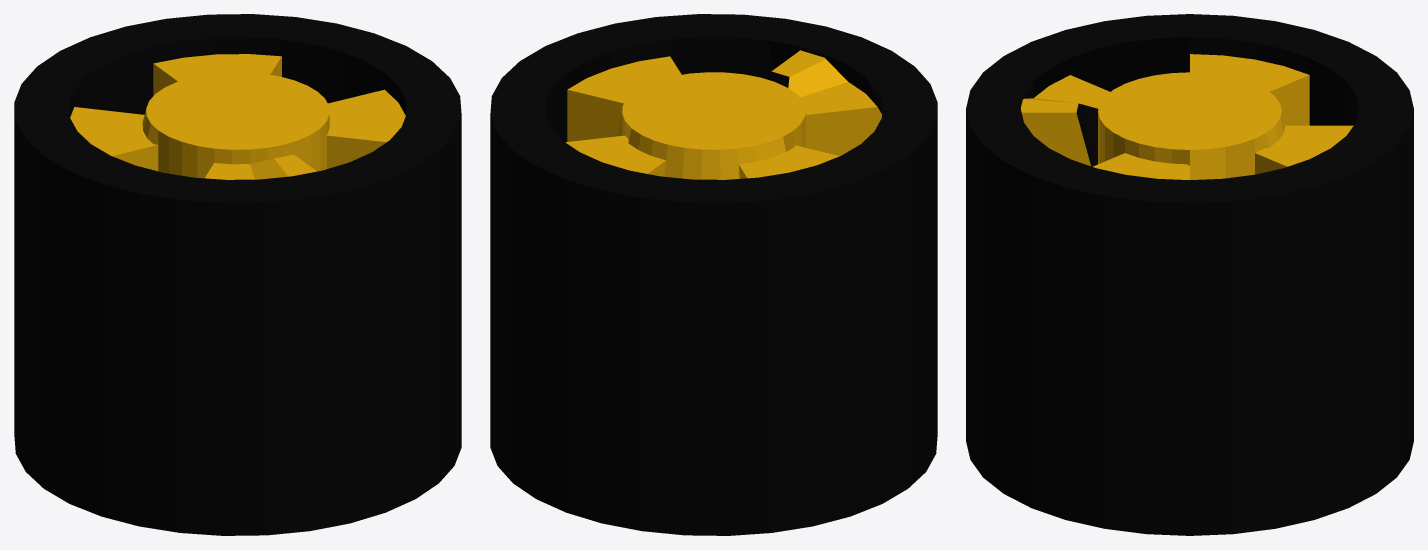
Rendered from PneuTrasTeste.fbx.
3 renders of one model, left to right at view 1: azimuth 30°, elevation 25°; view 2: azimuth 150°, elevation 25°; view 3: azimuth 270°, elevation 25°, orthographic.
Parts seen in each view (by area): view 1: pneutras; view 2: pneutras; view 3: pneutras.
Boxes of the visible parts, bbox=[...] form: pneutras: bbox=[14, 14, 461, 535]; pneutras: bbox=[490, 14, 937, 535]; pneutras: bbox=[966, 14, 1413, 535].
Bounding box in the file's own units: 126 × 104 × 126.
